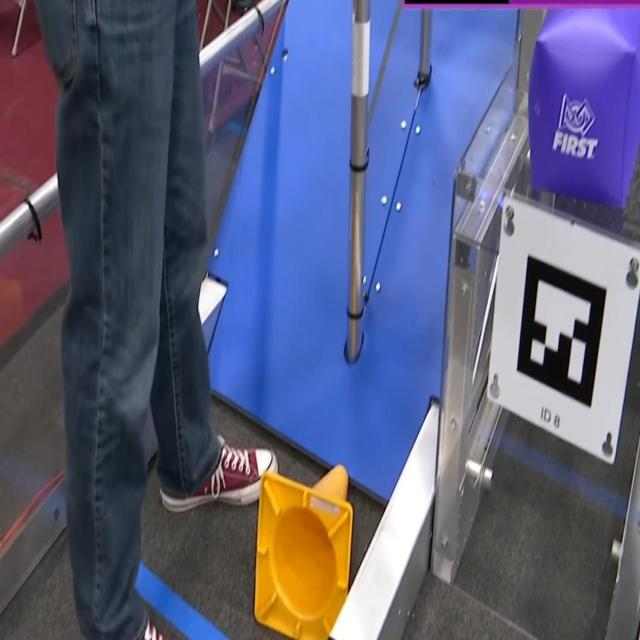frc_cone: (256, 462, 352, 640)
frc_cube: (532, 0, 640, 201)
